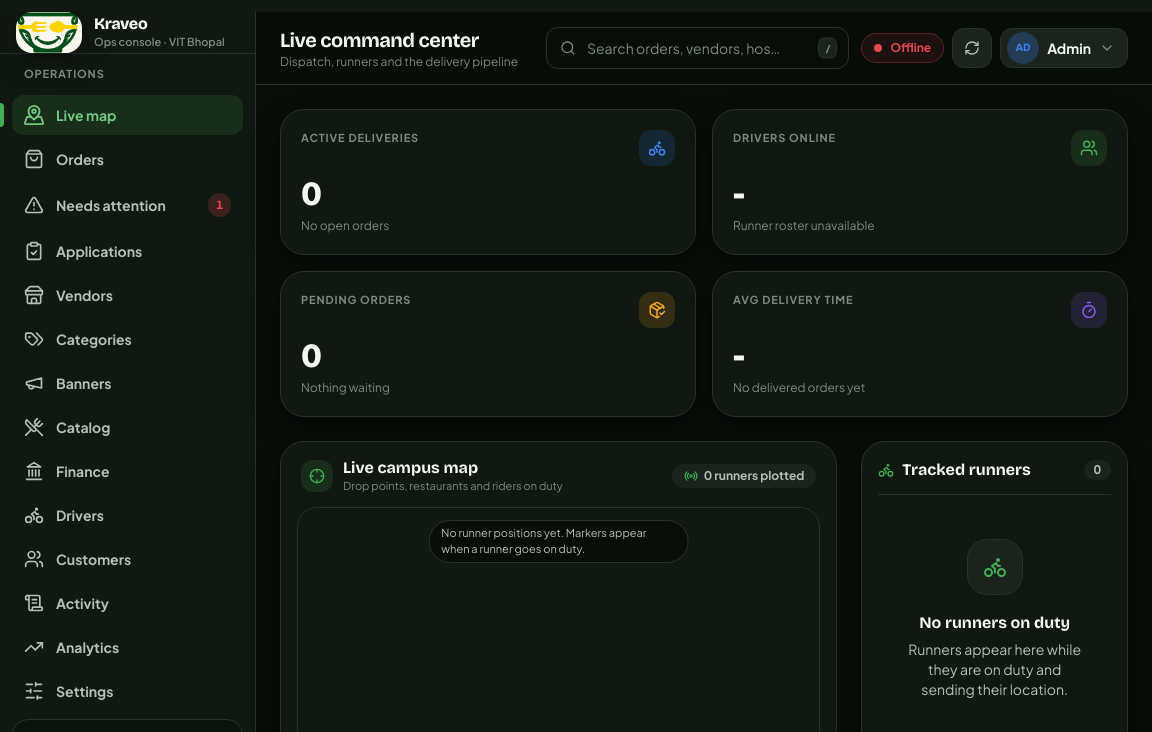
Test case: Categories tab › the sidebar has a Categories entry that opens the panel with the title from the header
Click the button "Categories".
click(128, 338)  # box [12,318,243,358]
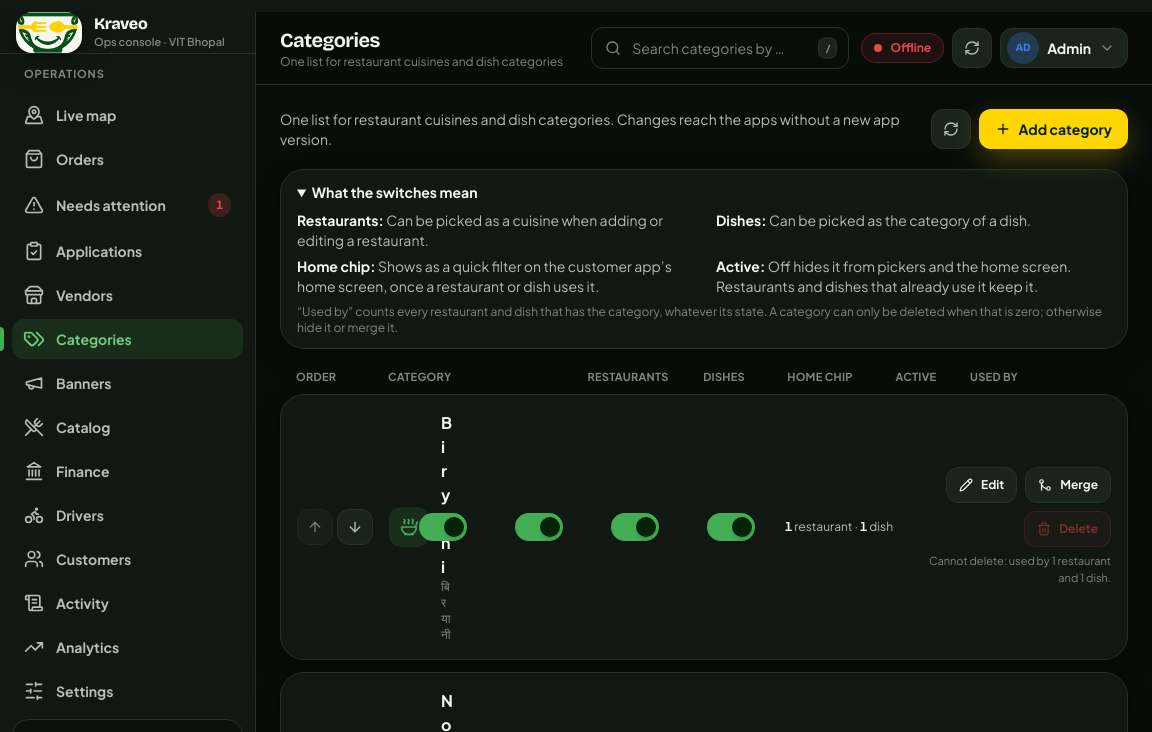
Result: the heading "Categories" is shown at [280,28,380,52]
Result: the text "What the switches mean" is shown at [312,183,477,201]
